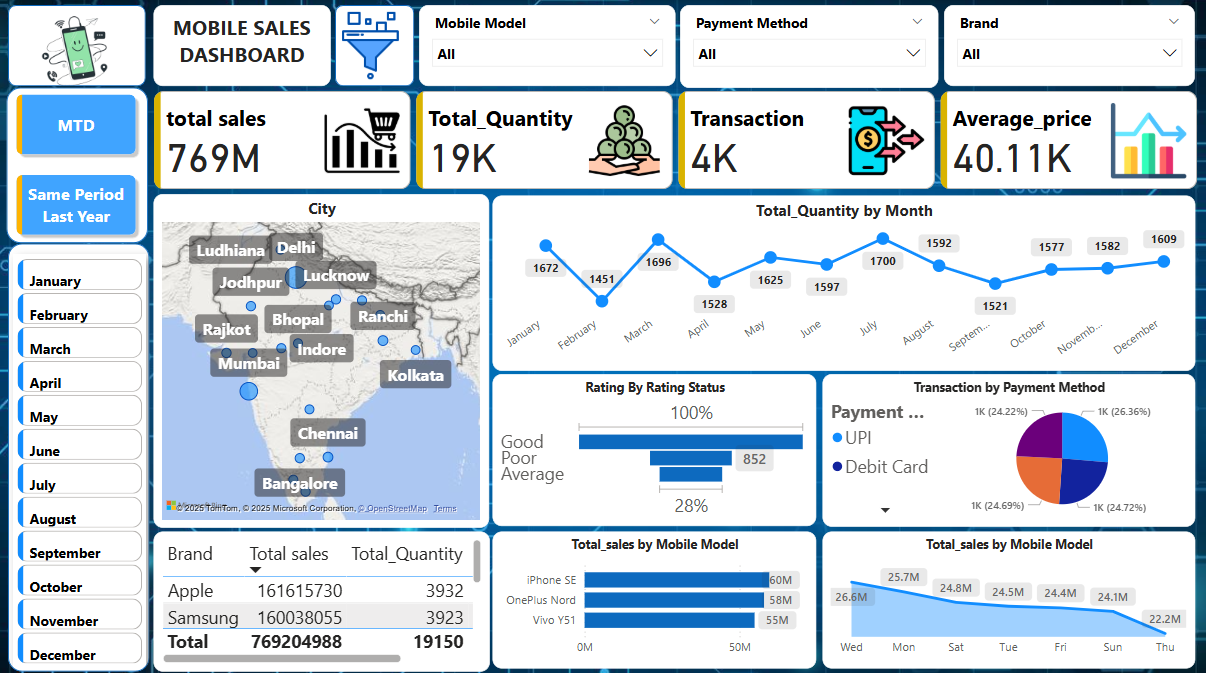

What the dashboard file says about the page in this screenshot:
{"tool":"powerbi","page":{"name":"Mobile Sales","canvas":[1280,720],"ordinal":0},"visuals":[{"type":"shape","box":[8.3,93.3,150,165],"z":0},{"type":"shape","box":[10,260,150,454],"z":1000},{"type":"advancedSlicerVisual","fields":{"Values":["custom_calendar.Date.Variation.Date Hierarchy.Month"]},"box":[14,270,142,444],"z":2000},{"type":"shape","box":[10,6,146,86],"z":3000},{"type":"image","box":[10,0,142,110],"z":4000},{"type":"cardVisual","fields":{"Data":["Mobile_sales_data.total sales","Mobile_sales_data.Total_Quantity","Mobile_sales_data.Transaction","Mobile_sales_data.Average_price"]},"box":[159.2,92.6,1117,114.8],"z":5000},{"type":"slicer","fields":{"Values":["Mobile_sales_data.Mobile Model"]},"box":[446,6,272,86],"z":6000},{"type":"slicer","fields":{"Values":["Mobile_sales_data.Payment Method"]},"box":[722,6,274,88],"z":7000},{"type":"slicer","fields":{"Values":["Mobile_sales_data.Brand"]},"box":[1002,6,266,86],"z":8000},{"type":"shape","box":[356,6,84,86],"z":9000},{"type":"image","box":[352,6,84,86],"z":10000},{"type":"textbox","box":[164,6,188,86],"z":11000},{"type":"map","title":" City","fields":{"Category":["Mobile_sales_data.City"],"Size":["Mobile_sales_data.total sales"]},"box":[164,206,356,354],"z":12000},{"type":"lineChart","fields":{"Y":["Mobile_sales_data.Total_Quantity"],"Category":["custom_calendar.Date.Variation.Date Hierarchy.Month"]},"box":[523.3,208.3,745,186],"z":13000},{"type":"funnel","title":" Rating By Rating Status","fields":{"Y":["CountNonNull(Mobile_sales_data.Customer Ratings)"],"Category":["Mobile_sales_data.Rating Status"]},"box":[523.3,398.3,343.3,161],"z":14000},{"type":"pieChart","fields":{"Y":["Mobile_sales_data.Transaction"],"Category":["Mobile_sales_data.Payment Method"]},"box":[873.3,398.3,395,161.7],"z":15000},{"type":"clusteredBarChart","title":"Total_sales by Mobile Model","fields":{"Category":["Mobile_sales_data.Mobile Model"],"Y":["Mobile_sales_data.total sales"]},"box":[523.3,565,343.3,145],"z":16000},{"type":"areaChart","title":"Total_sales by Mobile Model","fields":{"Category":["custom_calendar.Day Name"],"Y":["Mobile_sales_data.total sales"]},"box":[873.3,565,395,145],"z":17000},{"type":"tableEx","fields":{"Values":["Mobile_sales_data.Brand","Mobile_sales_data.total sales","Mobile_sales_data.Total_Quantity","Mobile_sales_data.Transaction"]},"box":[163.3,565,356.7,148.3],"z":18000},{"type":"pageNavigator","box":[13.3,95,138.3,161.7],"z":18001}]}

Visuals, with their boxes in screenshot pixels (x1, y1, x2, y2), scaled from the page's 1280x720 canvas onto the 1206x673 screenshot:
shape: {"x1": 8, "y1": 87, "x2": 149, "y2": 241}
shape: {"x1": 9, "y1": 243, "x2": 151, "y2": 667}
advancedSlicerVisual - custom_calendar.Date.Variation.Date Hierarchy.Month: {"x1": 13, "y1": 252, "x2": 147, "y2": 667}
shape: {"x1": 9, "y1": 6, "x2": 147, "y2": 86}
image: {"x1": 9, "y1": 0, "x2": 143, "y2": 103}
cardVisual - Mobile_sales_data.total sales x Mobile_sales_data.Total_Quantity: {"x1": 150, "y1": 87, "x2": 1202, "y2": 194}
slicer - Mobile_sales_data.Mobile Model: {"x1": 420, "y1": 6, "x2": 676, "y2": 86}
slicer - Mobile_sales_data.Payment Method: {"x1": 680, "y1": 6, "x2": 938, "y2": 88}
slicer - Mobile_sales_data.Brand: {"x1": 944, "y1": 6, "x2": 1195, "y2": 86}
shape: {"x1": 335, "y1": 6, "x2": 415, "y2": 86}
image: {"x1": 332, "y1": 6, "x2": 411, "y2": 86}
textbox: {"x1": 155, "y1": 6, "x2": 332, "y2": 86}
" City" map: {"x1": 155, "y1": 193, "x2": 490, "y2": 523}
lineChart - Mobile_sales_data.Total_Quantity x custom_calendar.Date.Variation.Date Hierarchy.Month: {"x1": 493, "y1": 195, "x2": 1195, "y2": 369}
" Rating By Rating Status" funnel: {"x1": 493, "y1": 372, "x2": 816, "y2": 523}
pieChart - Mobile_sales_data.Transaction x Mobile_sales_data.Payment Method: {"x1": 823, "y1": 372, "x2": 1195, "y2": 523}
"Total_sales by Mobile Model" clusteredBarChart: {"x1": 493, "y1": 528, "x2": 816, "y2": 664}
"Total_sales by Mobile Model" areaChart: {"x1": 823, "y1": 528, "x2": 1195, "y2": 664}
tableEx - Mobile_sales_data.Brand x Mobile_sales_data.total sales: {"x1": 154, "y1": 528, "x2": 490, "y2": 667}
pageNavigator: {"x1": 13, "y1": 89, "x2": 143, "y2": 240}
